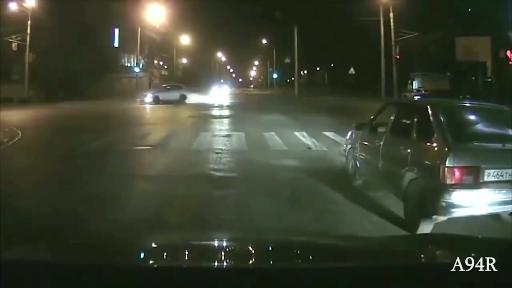CAR: (334, 93, 512, 233), (139, 77, 194, 108)
